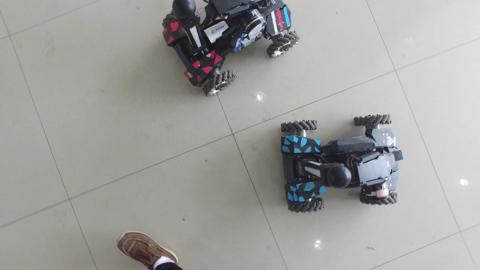chariot: (154, 1, 306, 99), (274, 108, 406, 216)
